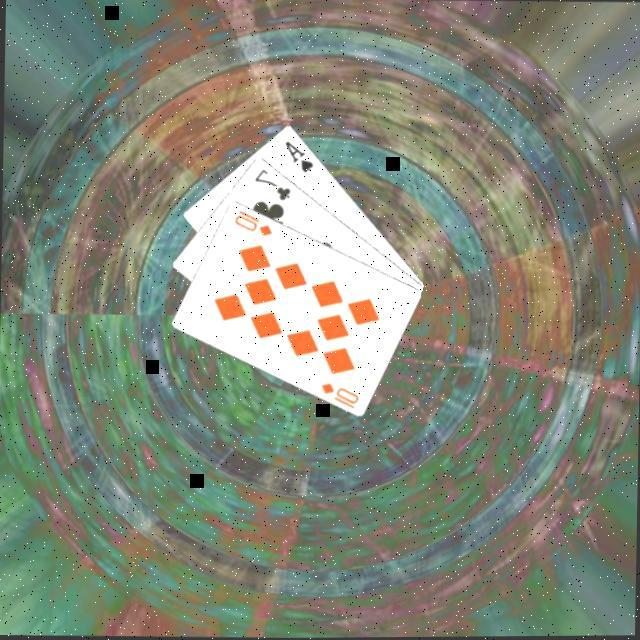10D: (228, 204, 274, 237), (316, 376, 360, 409)
7C: (249, 163, 294, 202)
AS: (279, 134, 316, 174)
